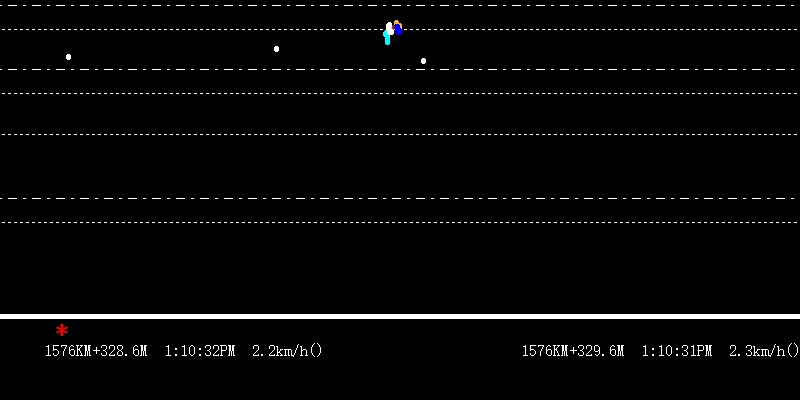face_2: (381, 18, 405, 46)
star: (53, 321, 69, 336)
